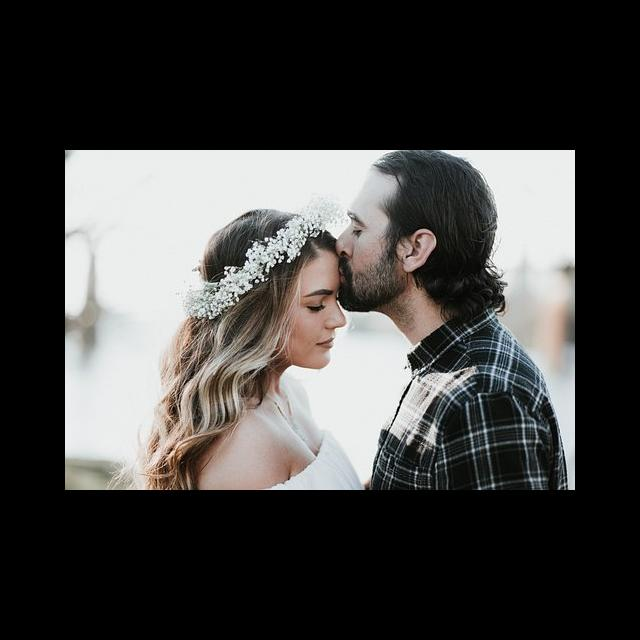female: (190, 218, 345, 371)
male: (345, 166, 503, 331)
